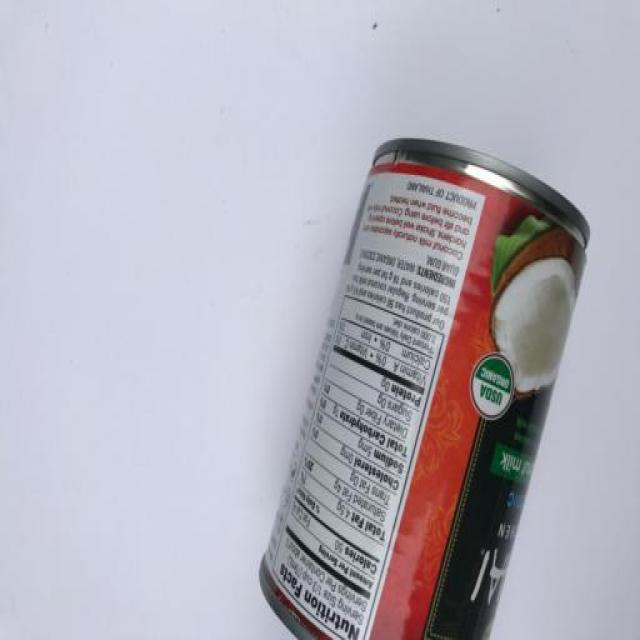metel: (232, 122, 640, 640)
